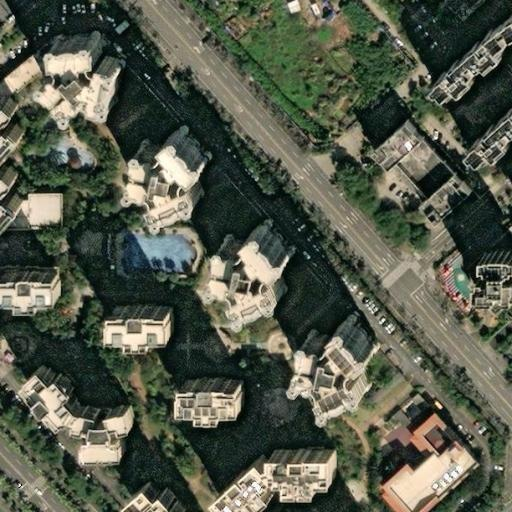building: (36, 374, 151, 465), (371, 116, 465, 215), (311, 315, 394, 406), (229, 220, 309, 313), (140, 124, 220, 216), (381, 442, 477, 512), (42, 28, 123, 107), (438, 20, 512, 94), (455, 226, 512, 314), (0, 33, 56, 106), (0, 272, 71, 327), (225, 454, 289, 512), (280, 449, 346, 489), (194, 381, 253, 415), (117, 303, 176, 335), (0, 165, 28, 229), (474, 114, 512, 161), (138, 491, 188, 512)
